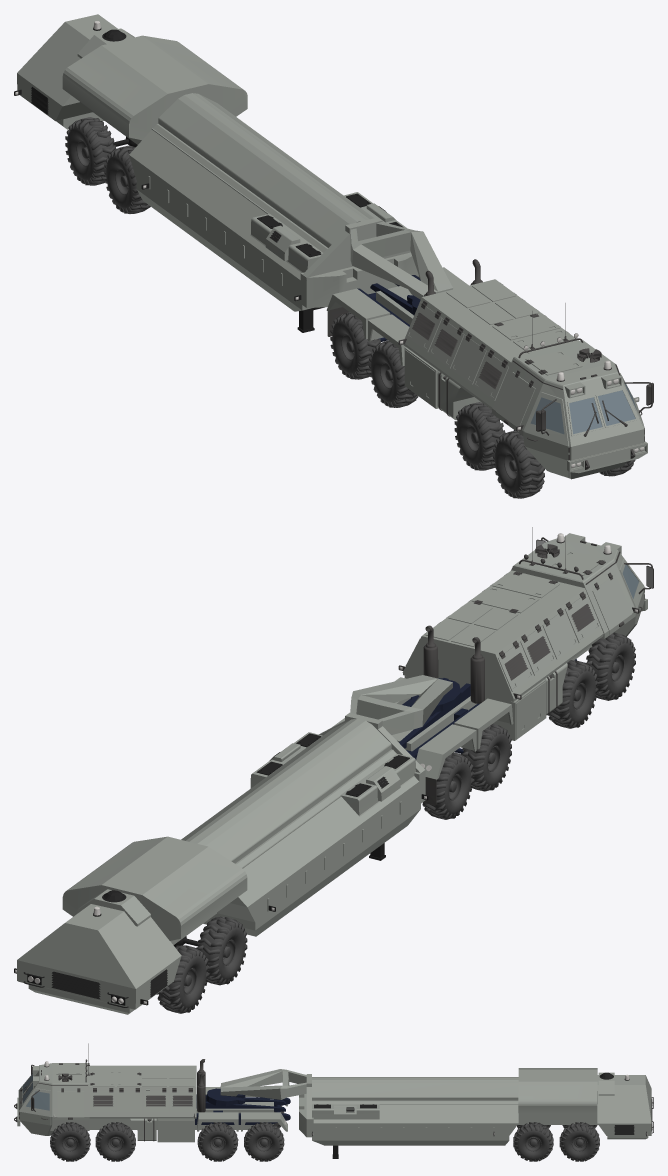
File: RocketCarrier.fbx
3 renders of one model, top to bottom at view 1: azimuth 30°, elevation 25°; view 2: azimuth 150°, elevation 25°; view 3: azimuth 270°, elevation 25°, orthographic. The views are drawn at different scales.
Visible parts, largest first — view 1: TrailerBody, Body, WheelTrailerR1, WheelR0, WheelR1, Windows, WheelR3, WheelR2, WheelTrailerR0; view 2: TrailerBody, Body, WheelTrailerR0, WheelR0, WheelTrailerR1, WheelR1, WheelR2, WheelR3, Details; view 3: TrailerBody, Body, WheelL3, WheelTrailerL0, WheelL0, WheelTrailerL1, WheelL1, WheelL2, Details, Windows.
Boxes of the visible parts, x1,y1,x2,y2 form: TrailerBody: (14,14,452,311); Body: (326,267,653,479); WheelTrailerR1: (65,117,116,185); WheelR0: (493,430,544,498); WheelR1: (454,402,505,470); Windows: (530,383,637,434); WheelR3: (330,312,380,379); WheelR2: (369,340,418,407); WheelTrailerR0: (104,145,150,213); TrailerBody: (14,675,452,1014); Body: (332,533,653,779); WheelTrailerR0: (196,916,247,985); WheelR0: (586,632,635,700); WheelTrailerR1: (156,945,208,1013); WheelR1: (547,660,597,728); WheelR2: (461,724,511,791); WheelR3: (422,752,473,819); Details: (423,527,566,703); TrailerBody: (220,1068,653,1145); Body: (14,1059,290,1142); WheelL3: (244,1122,284,1161); WheelTrailerL0: (513,1122,553,1161); WheelL0: (50,1122,90,1161); WheelTrailerL1: (559,1122,599,1161); WheelL1: (95,1122,135,1161); WheelL2: (197,1122,238,1161); Details: (20,1043,205,1112); Windows: (22,1074,49,1110).
Bounding box in the file's own units: 3.33 × 3.95 × 23.14.
